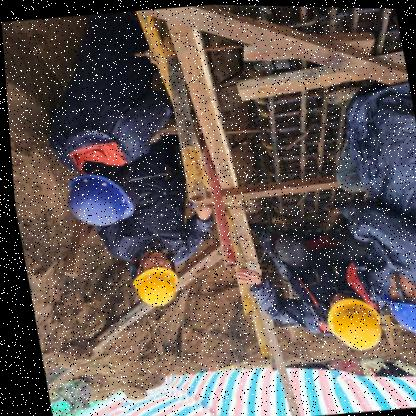helmet: (56, 164, 139, 232), (311, 287, 386, 349), (118, 261, 178, 309), (373, 282, 415, 342)
